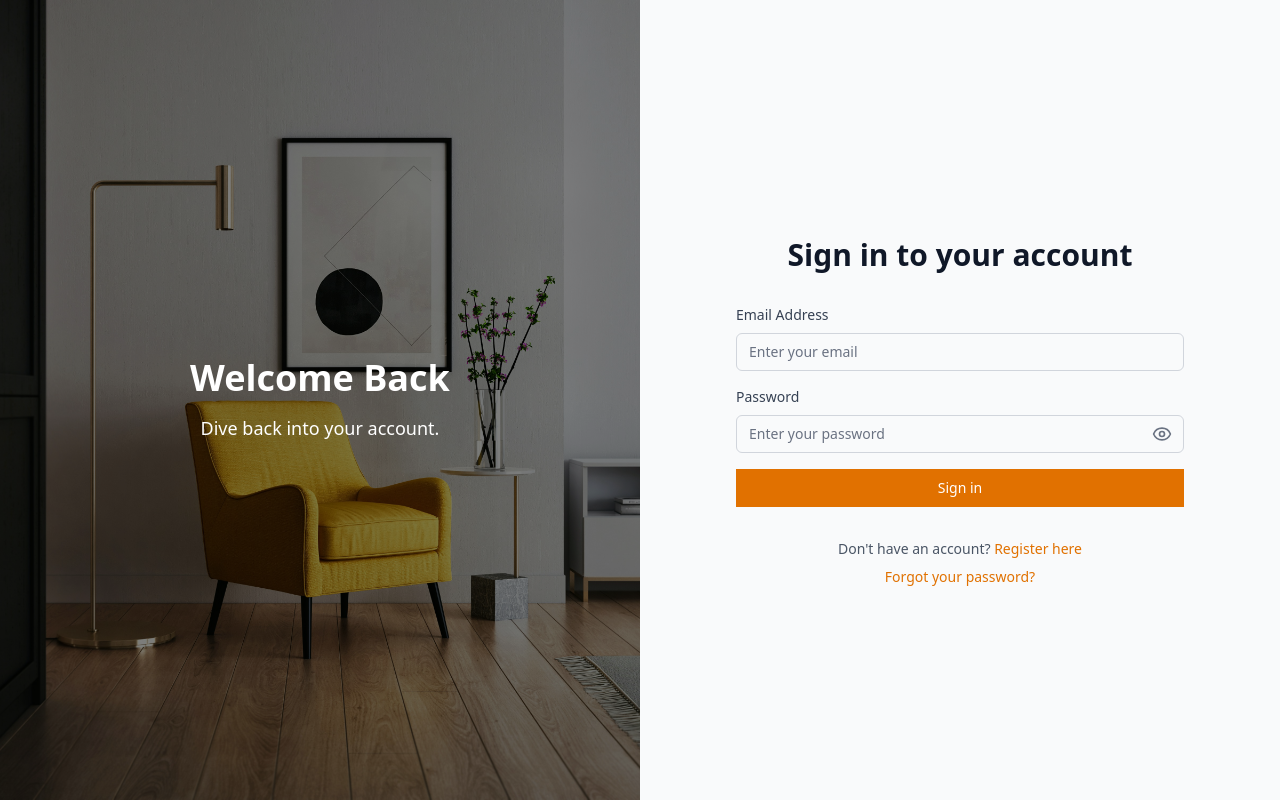
LoginPage › handles unexpected errors
This screenshot has width=1280, height=800.
Type "test@example.com" into the field labelled "Email Address" at (960, 352), box left=736, top=333, right=1184, bottom=371
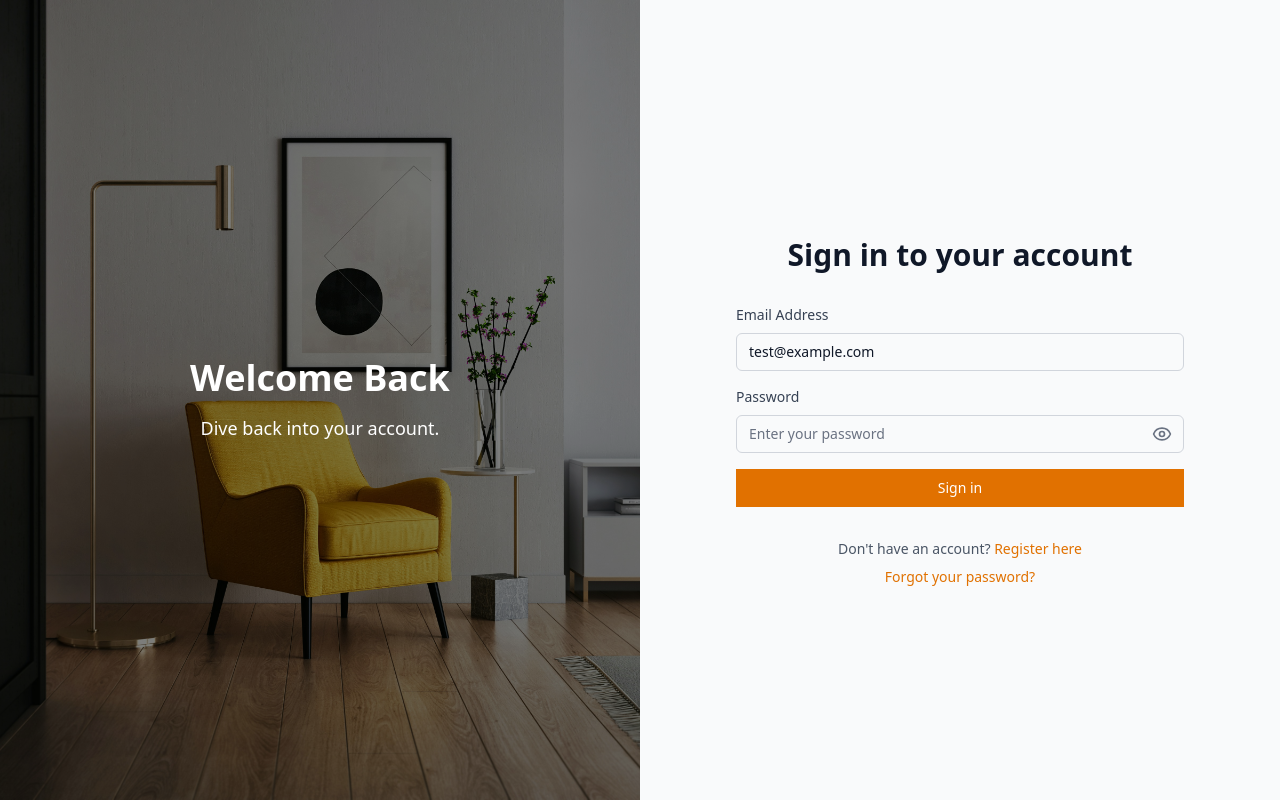
Type "password123" into the password field labelled "Password" at (960, 434), box left=736, top=415, right=1184, bottom=453
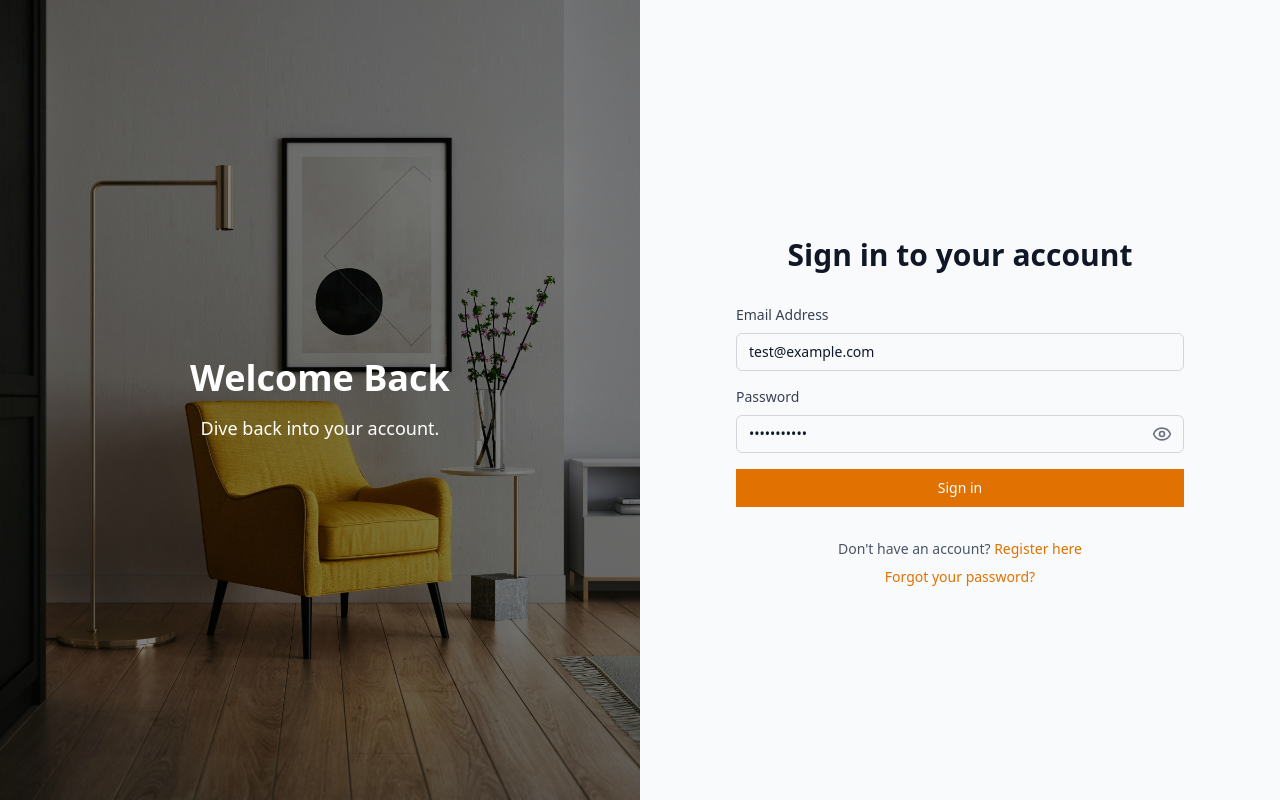
Click the button "Sign in" at (960, 488), box left=736, top=469, right=1184, bottom=507
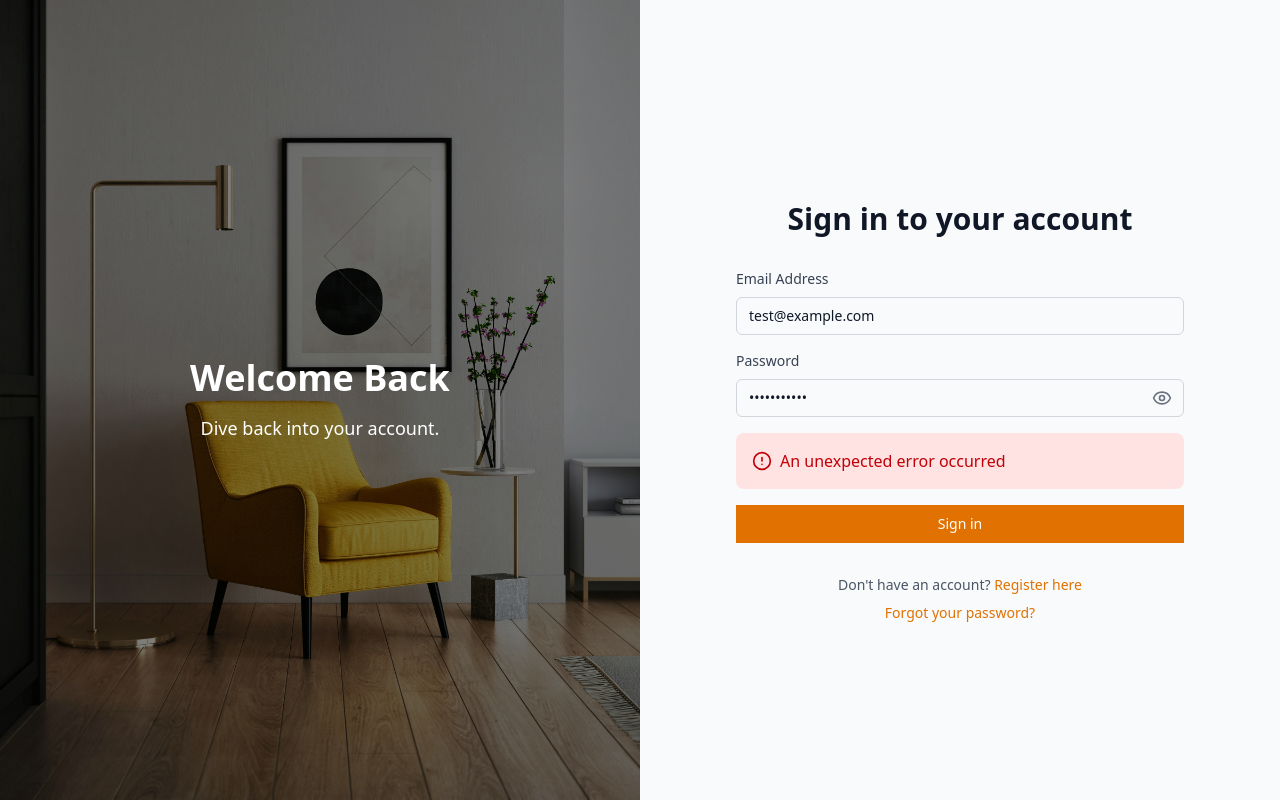
Expected: the text "An unexpected error occurred" is shown, left=780, top=450, right=1006, bottom=472
